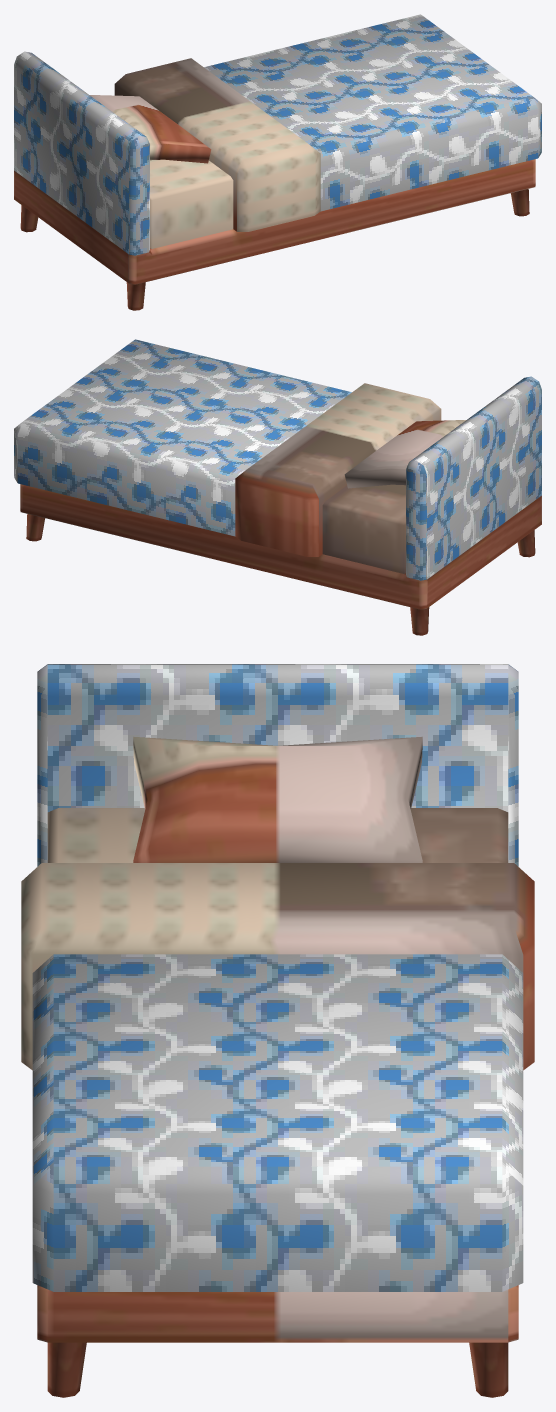
Rendered from rmk_scd_bedS.dae.
3 views of the same model, one above another, from view 1: azimuth 30°, elevation 25°; view 2: azimuth 150°, elevation 25°; view 3: azimuth 270°, elevation 25° (orthographic). The views are drawn at different scales.
Parts seen in each view (by area): view 1: vsn_mesh_0_, vsn_mesh_1_; view 2: vsn_mesh_0_, vsn_mesh_1_; view 3: vsn_mesh_0_, vsn_mesh_1_.
Boxes of the visible parts, x1,y1,x2,y2 form: vsn_mesh_0_: (14,14,541,255); vsn_mesh_1_: (14,58,535,310); vsn_mesh_0_: (14,339,541,580); vsn_mesh_1_: (20,383,541,635); vsn_mesh_0_: (32,664,523,1291); vsn_mesh_1_: (21,736,534,1397).
Bounding box in the file's own units: 59.61 × 24 × 32.
Materials: 2 (2 with a texture image).
